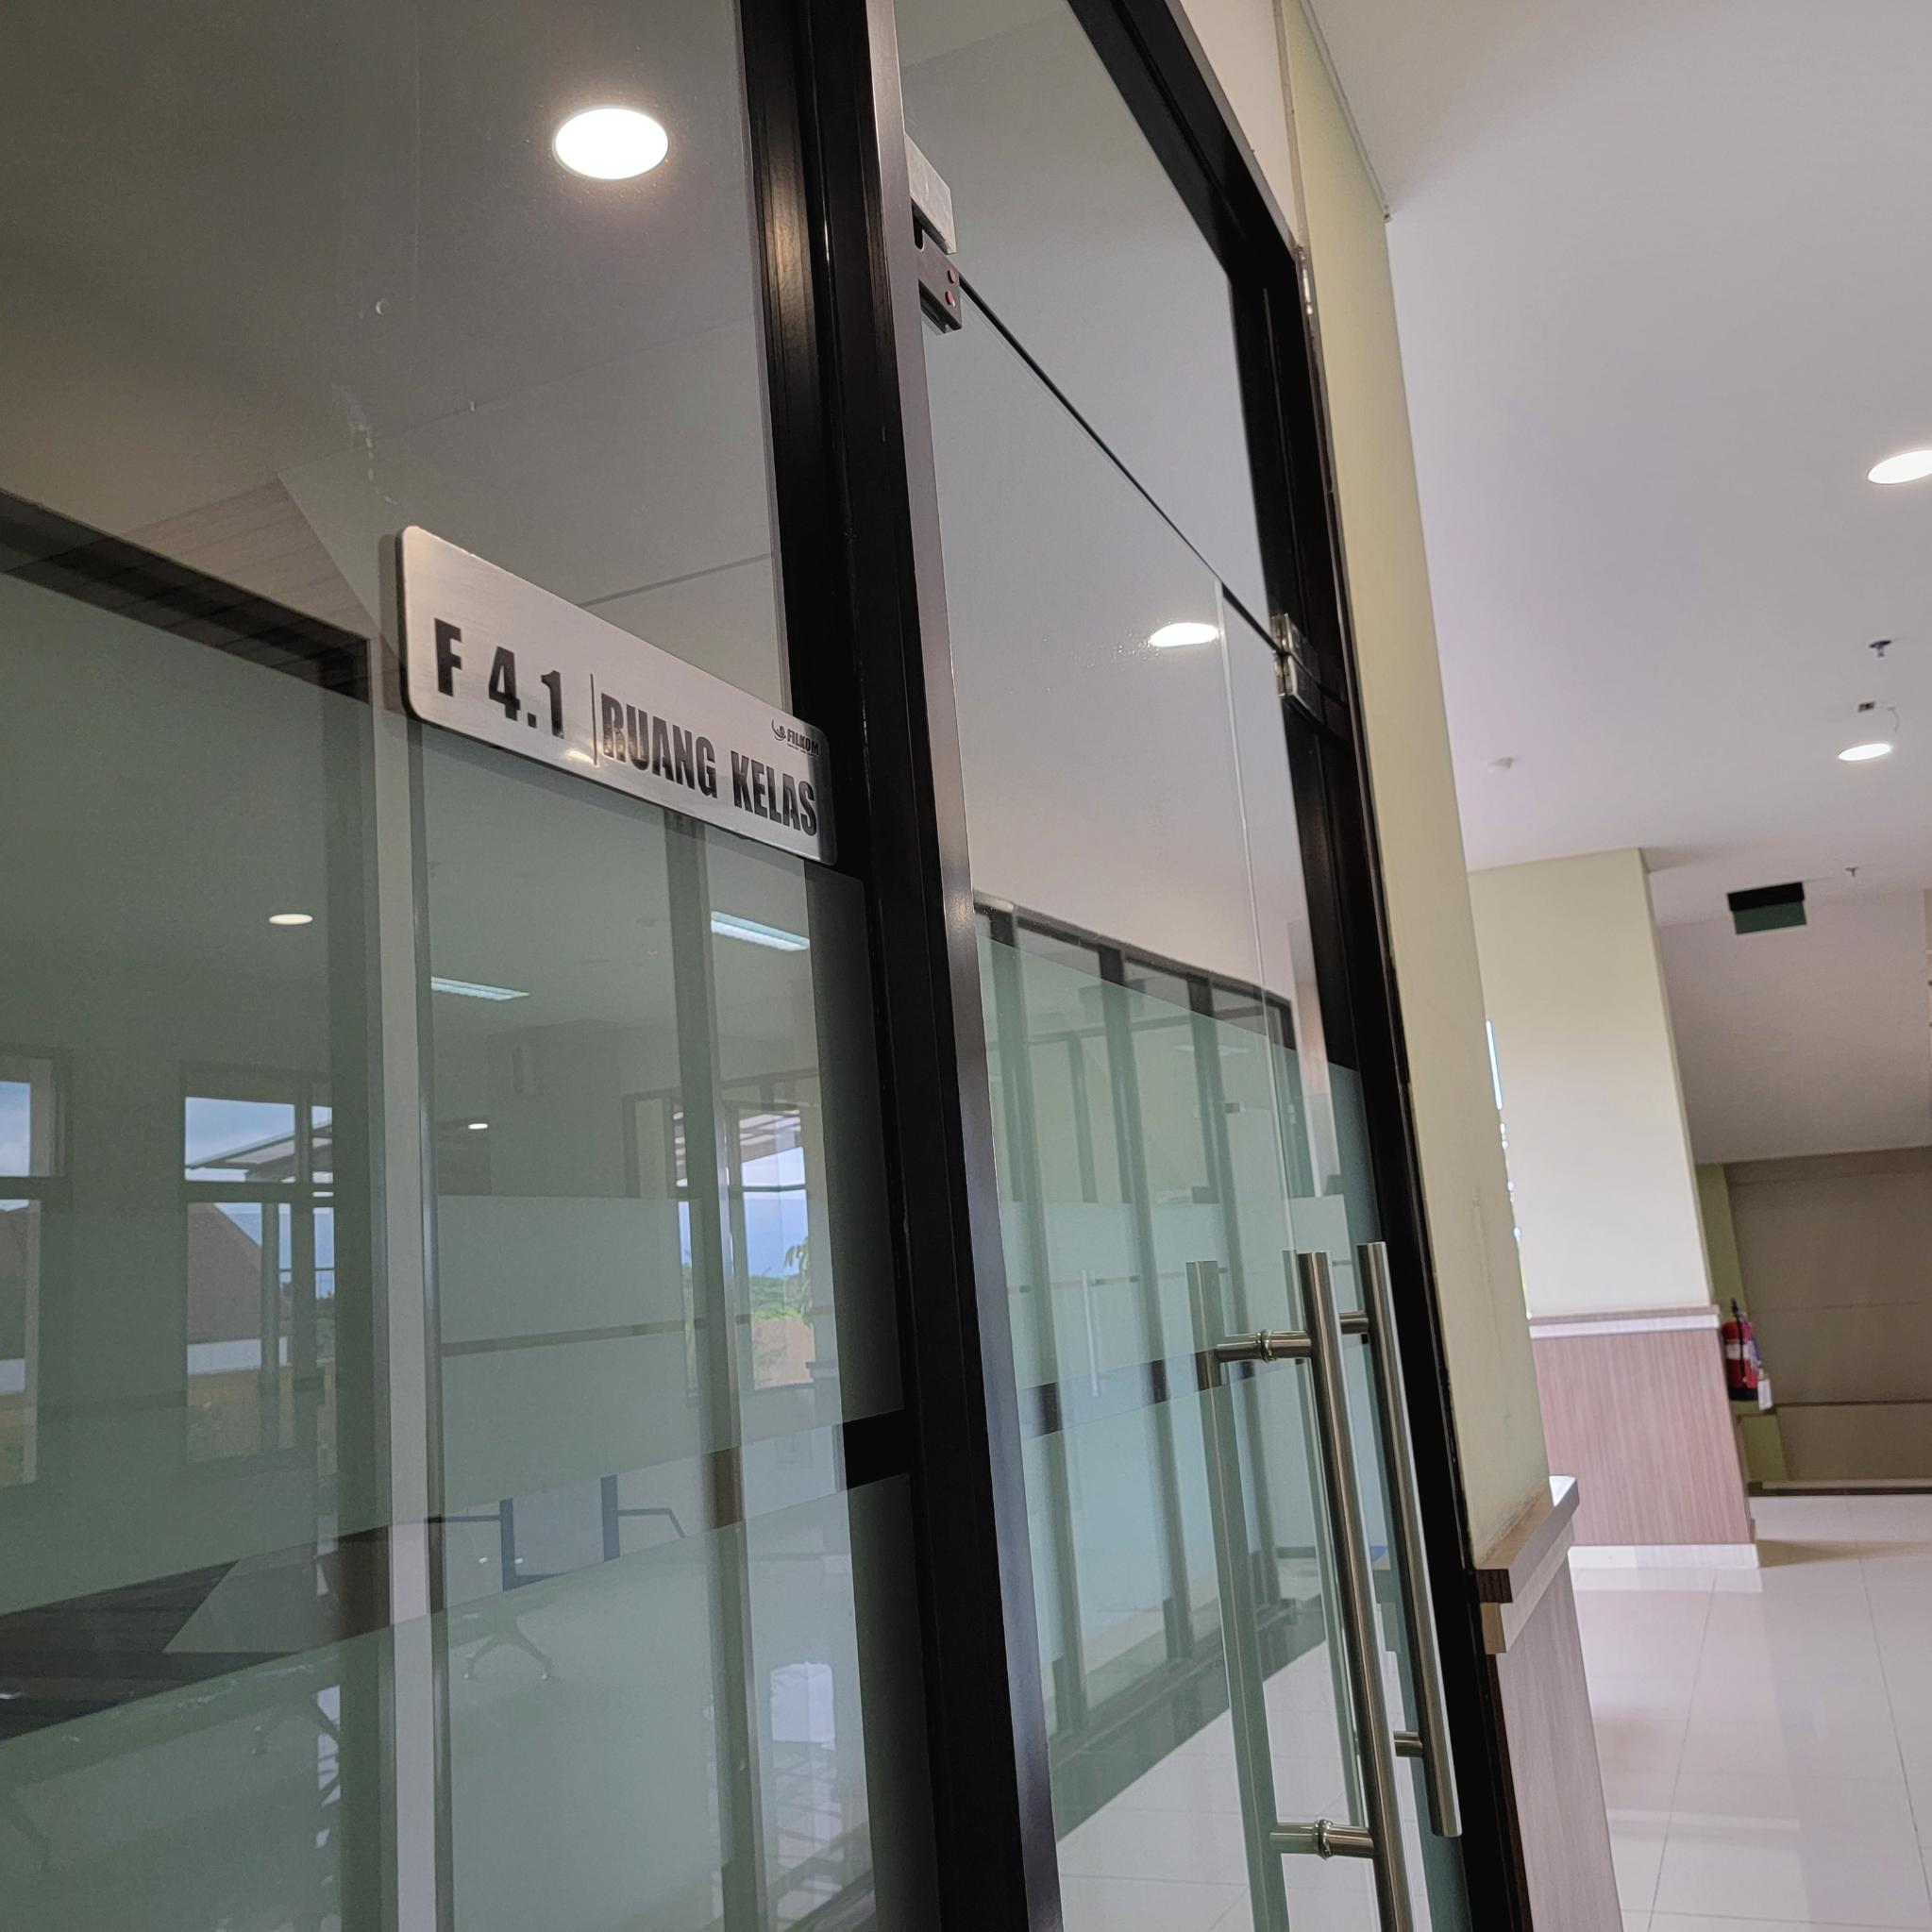plate: (398, 525, 839, 870)
